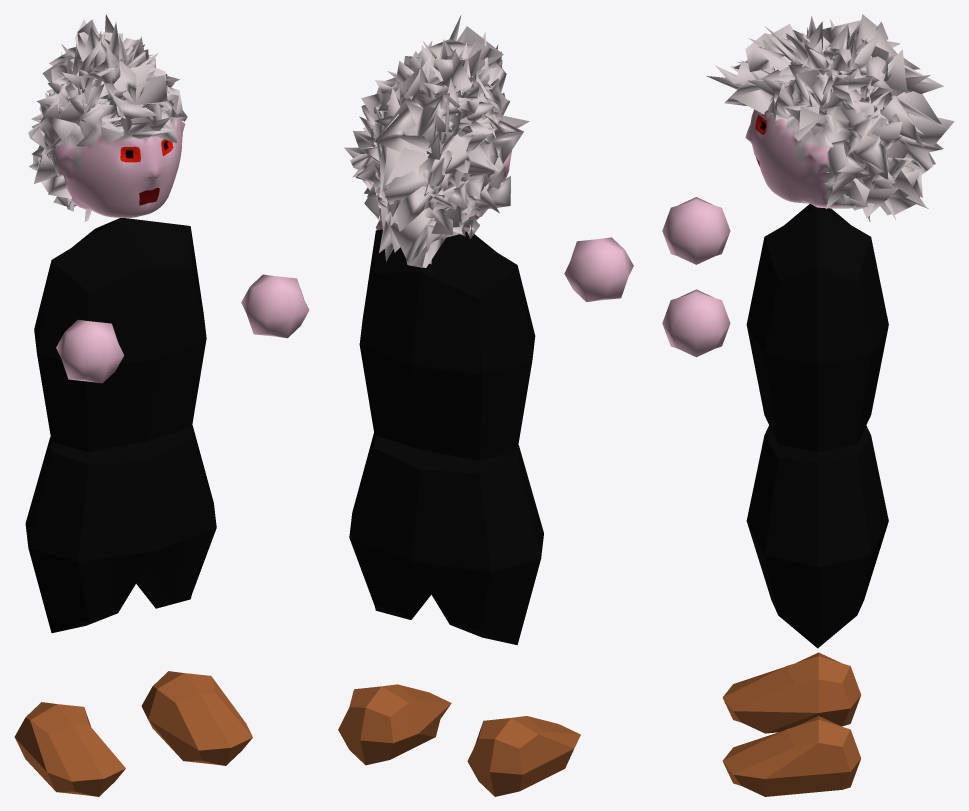
Rendered from enemy.fbx.
3 views of the same model, side by side, from view 1: azimuth 30°, elevation 25°; view 2: azimuth 150°, elevation 25°; view 3: azimuth 270°, elevation 25° (orthographic). The views are drawn at different scales.
Visible parts, largest first — view 1: Body, Head, Left feet, Right feet, Right arm, Left arm; view 2: Body, Head, Right feet, Left feet, Right arm; view 3: Body, Head, Left feet, Right feet, Left arm, Right arm.
Boxes of the visible parts, x1,y1,x2,y2 form: Body: (25,218,216,633); Head: (28,14,187,221); Left feet: (141,671,252,765); Right feet: (14,702,125,796); Right arm: (56,319,124,383); Left arm: (241,274,309,338); Body: (349,229,543,645); Head: (344,15,529,267); Right feet: (467,716,580,796); Left feet: (338,684,451,765); Right arm: (564,237,633,302); Body: (746,204,888,648); Head: (706,14,954,222); Left feet: (722,716,861,796); Right feet: (722,652,860,733); Left arm: (662,289,730,357); Right arm: (662,197,730,264).
Bounding box in the file's own units: 202 × 577 × 206.
